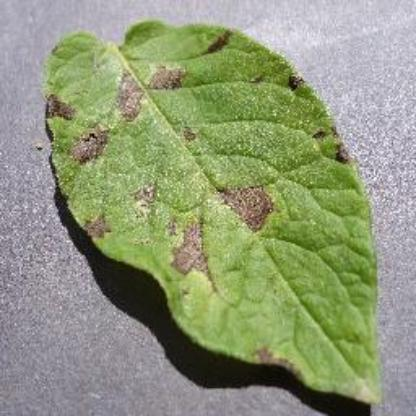Early-Blight: (34, 11, 408, 414)
